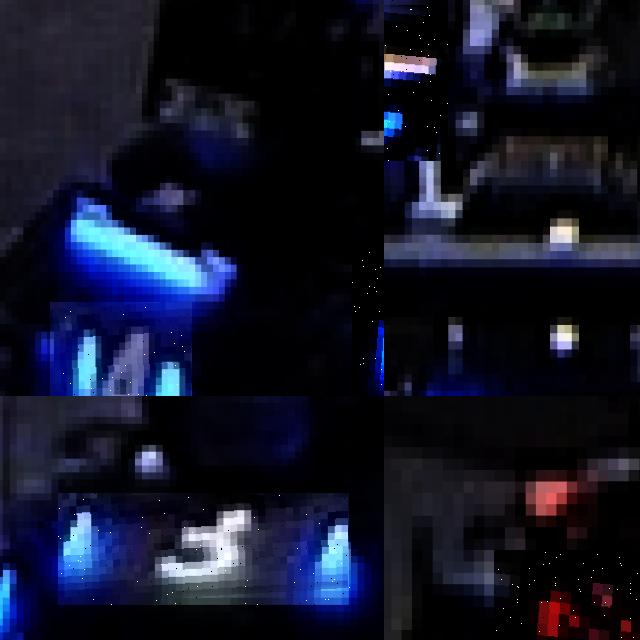B3: (58, 493, 350, 605)
B4: (50, 301, 192, 396), (384, 0, 448, 161), (352, 242, 384, 396)
R3: (494, 550, 640, 640)
